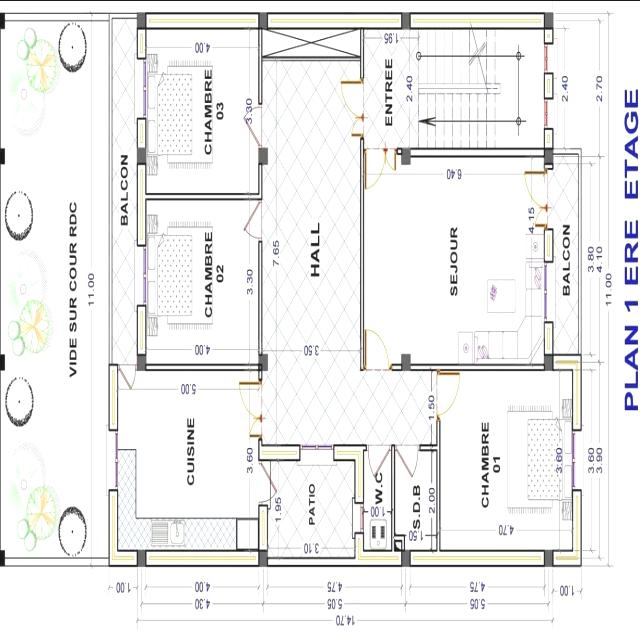Blueprint: (0, 4, 586, 574)
column: (541, 542, 557, 572), (135, 542, 149, 574), (542, 7, 557, 34), (398, 349, 412, 377), (399, 142, 413, 170), (542, 140, 556, 168), (542, 348, 556, 376), (256, 543, 271, 569), (399, 544, 414, 570), (134, 142, 148, 168), (256, 142, 270, 168), (256, 6, 270, 32), (399, 8, 413, 34), (134, 8, 148, 32), (134, 351, 148, 374), (256, 352, 270, 374), (0, 348, 8, 379), (0, 546, 8, 575), (0, 7, 7, 33), (0, 143, 7, 168)
wall: (266, 540, 404, 570), (410, 7, 546, 35), (106, 7, 116, 370), (408, 545, 548, 569), (266, 9, 404, 32), (143, 8, 260, 32), (144, 546, 260, 570), (357, 134, 368, 378), (408, 358, 550, 376), (408, 142, 547, 160), (574, 138, 584, 361), (135, 190, 264, 202), (145, 360, 263, 372), (5, 556, 110, 568), (256, 434, 301, 462), (434, 415, 442, 571), (569, 482, 583, 570), (570, 348, 584, 434), (389, 439, 399, 559), (106, 484, 120, 567), (135, 160, 148, 248), (352, 437, 368, 508), (330, 438, 370, 466), (5, 10, 109, 20), (107, 358, 120, 434), (256, 237, 264, 357), (551, 349, 585, 374), (550, 545, 584, 570), (106, 546, 140, 568), (256, 502, 270, 552), (136, 299, 148, 356), (256, 24, 264, 108), (550, 142, 584, 160), (542, 318, 556, 360), (105, 7, 137, 25), (358, 10, 366, 81), (540, 70, 556, 104), (542, 226, 556, 264), (135, 24, 148, 62), (416, 438, 442, 456), (135, 112, 147, 150), (0, 165, 2, 354), (0, 370, 2, 551), (256, 161, 264, 204), (0, 28, 2, 148)
